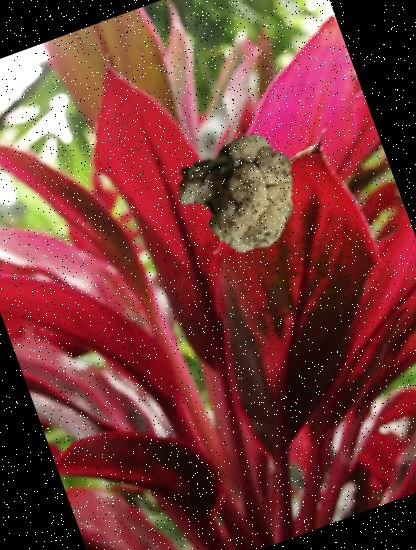Cauliflower: (156, 114, 314, 272)
